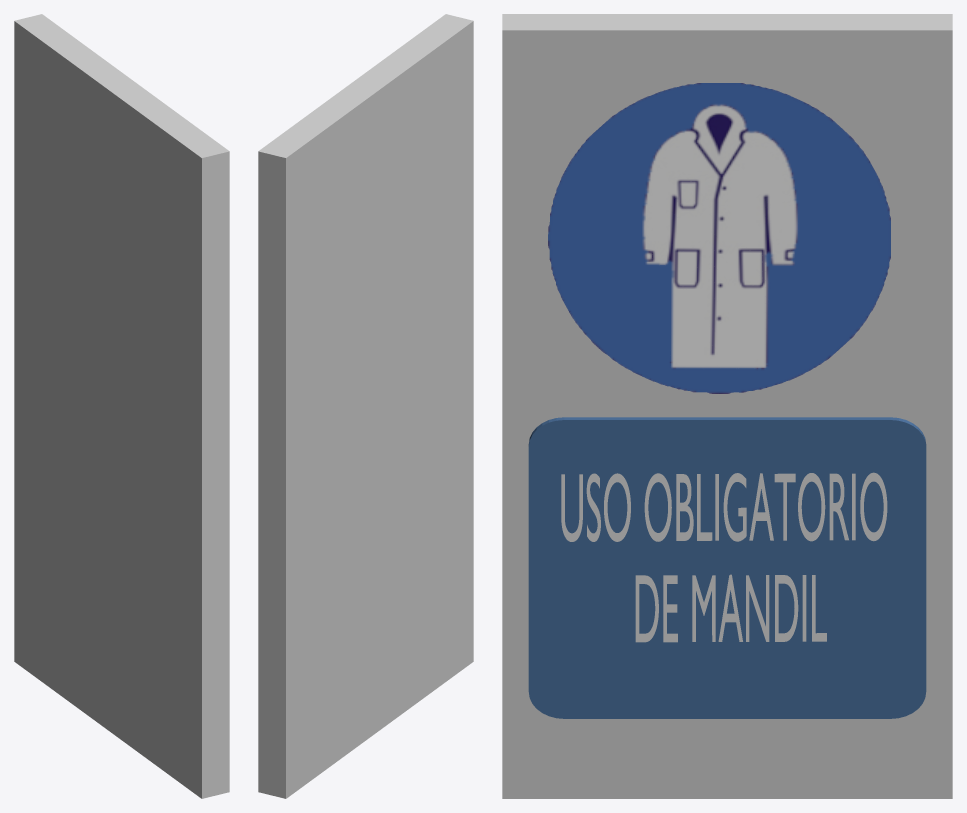
Rendered from tableroMandil.fbx.
3 renders of one model, left to right at view 1: azimuth 30°, elevation 25°; view 2: azimuth 150°, elevation 25°; view 3: azimuth 270°, elevation 25°, orthographic. The views are drawn at different scales.
Parts seen in each view (by area): view 1: Cube; view 2: Cube; view 3: Cube, Cubo, Mandils, Texto, Texto.001.
Boxes of the visible parts, <box> form: Cube: <box>14,14,229,798</box>; Cube: <box>258,14,473,798</box>; Cube: <box>502,14,952,798</box>; Cubo: <box>528,417,926,718</box>; Mandils: <box>548,83,890,393</box>; Texto: <box>561,472,887,541</box>; Texto.001: <box>635,574,826,642</box>.
Bounding box in the file's own units: 14.44 × 229 × 122.
